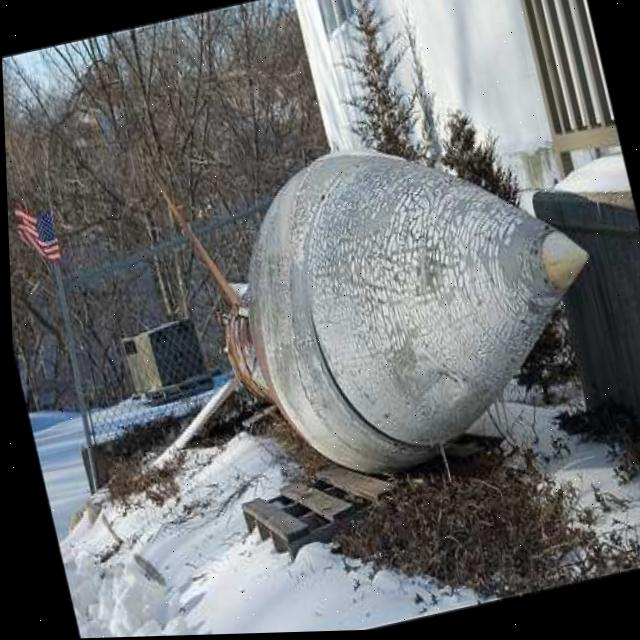missile: (79, 87, 616, 488)
